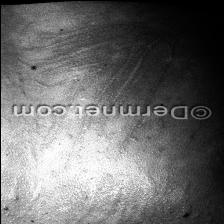Toxin: (36, 22, 164, 102), (29, 118, 151, 158)
